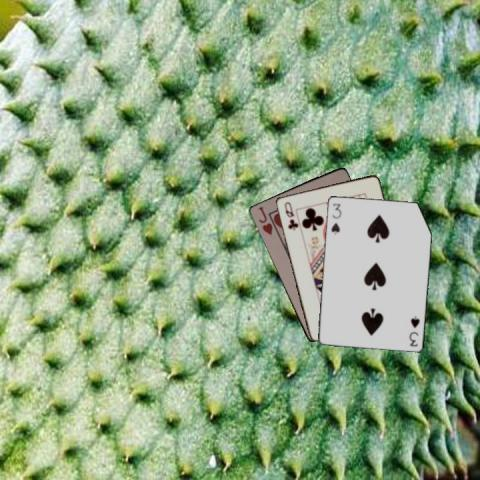3s: (328, 200, 343, 235), (406, 313, 421, 347)
Jh: (255, 203, 274, 236)
Qc: (281, 199, 299, 231)
